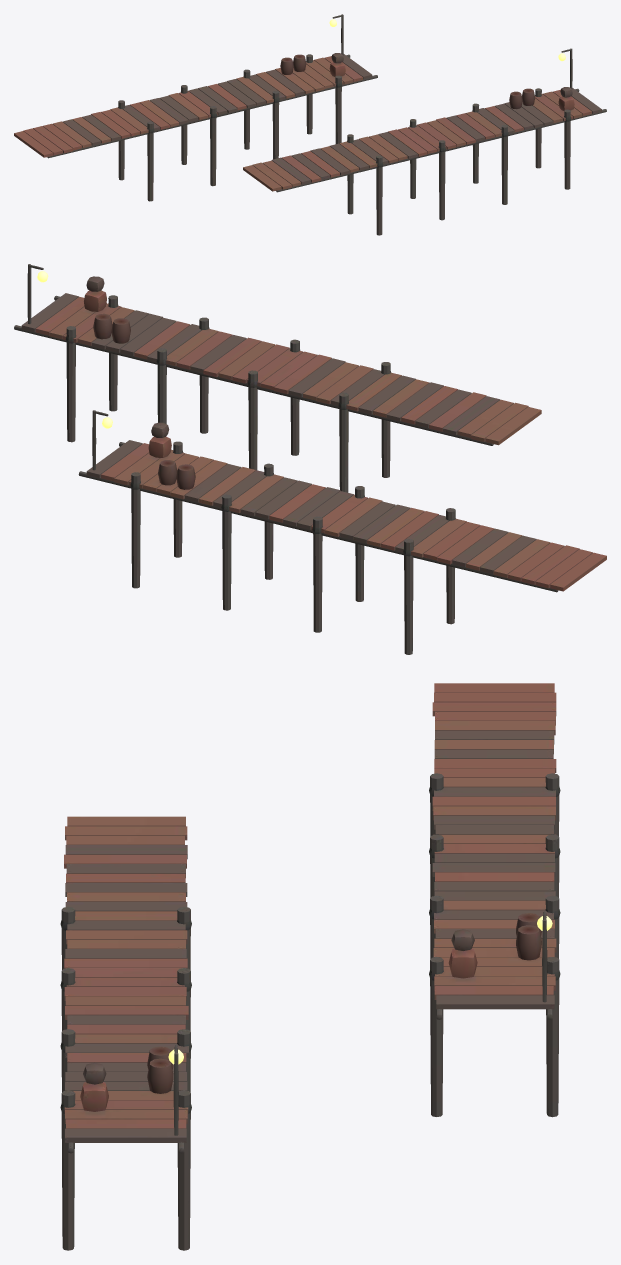
The model's file is piers.glb.
3 views of the same model, one above another, from view 1: azimuth 30°, elevation 25°; view 2: azimuth 150°, elevation 25°; view 3: azimuth 270°, elevation 25° (orthographic). The views are drawn at different scales.
Visible parts, largest first — view 1: main; view 2: main; view 3: main.
Boxes of the visible parts, x1=… form: main: x1=14, y1=14, x2=606, y2=235; main: x1=14, y1=264, x2=606, y2=654; main: x1=60, y1=683, x2=560, y2=1250.
Bounding box in the file's own units: 41.4 × 9.45 × 19.
Materials: 2 (1 with a texture image).
